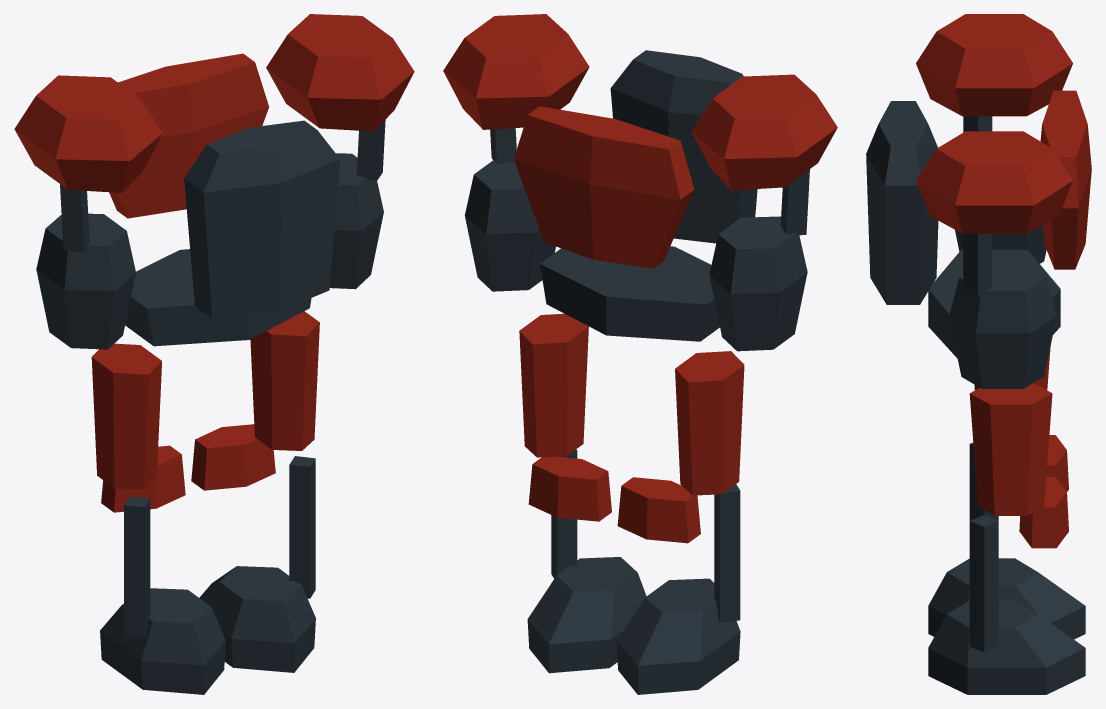
Rendered from basic_exosuit.glb.
3 renders of one model, left to right at view 1: azimuth 30°, elevation 25°; view 2: azimuth 150°, elevation 25°; view 3: azimuth 270°, elevation 25°, orthographic. The views are drawn at different scales.
Parts seen in each view (by area): view 1: FrameMesh, RightShinFrameMesh, LeftShinFrameMesh, LeftUpperFrameMesh, RightUpperFrameMesh, LeftForearmFrameMesh, LeftThighFrameMesh, RightThighFrameMesh, RightForearmFrameMesh; view 2: FrameMesh, LeftShinFrameMesh, RightShinFrameMesh, LeftUpperFrameMesh, RightUpperFrameMesh, LeftForearmFrameMesh, LeftThighFrameMesh, RightThighFrameMesh, RightForearmFrameMesh; view 3: FrameMesh, RightShinFrameMesh, RightUpperFrameMesh, LeftUpperFrameMesh, RightForearmFrameMesh, RightThighFrameMesh, LeftShinFrameMesh, LeftForearmFrameMesh.
Boxes of the visible parts, box(x1,y1,x2,y2) form: FrameMesh: box(109, 53, 340, 346); RightShinFrameMesh: box(191, 424, 315, 672); LeftShinFrameMesh: box(100, 445, 225, 694); LeftUpperFrameMesh: box(14, 75, 162, 251); RightUpperFrameMesh: box(266, 14, 414, 180); LeftForearmFrameMesh: box(36, 213, 135, 349); LeftThighFrameMesh: box(91, 343, 161, 489); RightThighFrameMesh: box(250, 311, 319, 450); RightForearmFrameMesh: box(329, 153, 383, 289); FrameMesh: box(514, 50, 757, 341); LeftShinFrameMesh: box(616, 477, 740, 694); RightShinFrameMesh: box(527, 449, 646, 673); LeftUpperFrameMesh: box(691, 74, 837, 235); RightUpperFrameMesh: box(443, 14, 589, 163); LeftForearmFrameMesh: box(709, 216, 807, 351); LeftThighFrameMesh: box(675, 351, 744, 495); RightThighFrameMesh: box(519, 313, 588, 457); RightForearmFrameMesh: box(464, 160, 555, 291); FrameMesh: box(866, 90, 1091, 358); RightShinFrameMesh: box(928, 477, 1085, 694); RightUpperFrameMesh: box(916, 131, 1072, 296); LeftUpperFrameMesh: box(916, 14, 1072, 132); RightForearmFrameMesh: box(949, 263, 1056, 388); RightThighFrameMesh: box(969, 383, 1052, 515); LeftShinFrameMesh: box(928, 435, 1085, 639); LeftForearmFrameMesh: box(955, 225, 1046, 263).
Size of the model in its own units: 0.9558 by 1.5 by 0.545.
